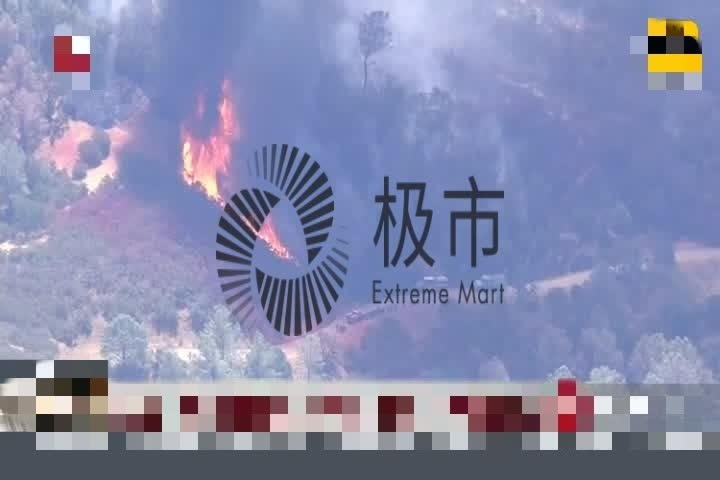fire: (175, 77, 292, 260)
